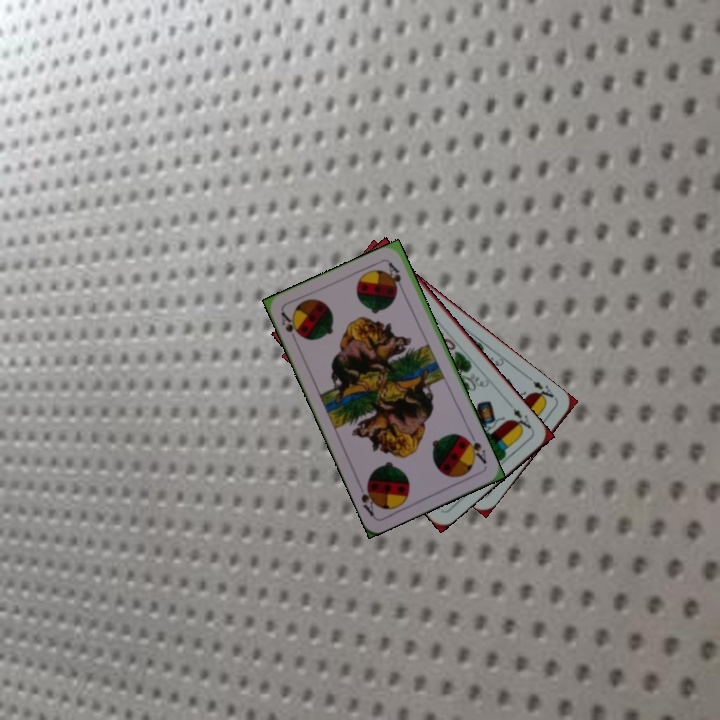EA: (524, 372, 558, 405), (505, 399, 534, 434)
SA: (460, 430, 489, 467), (277, 308, 305, 346)
